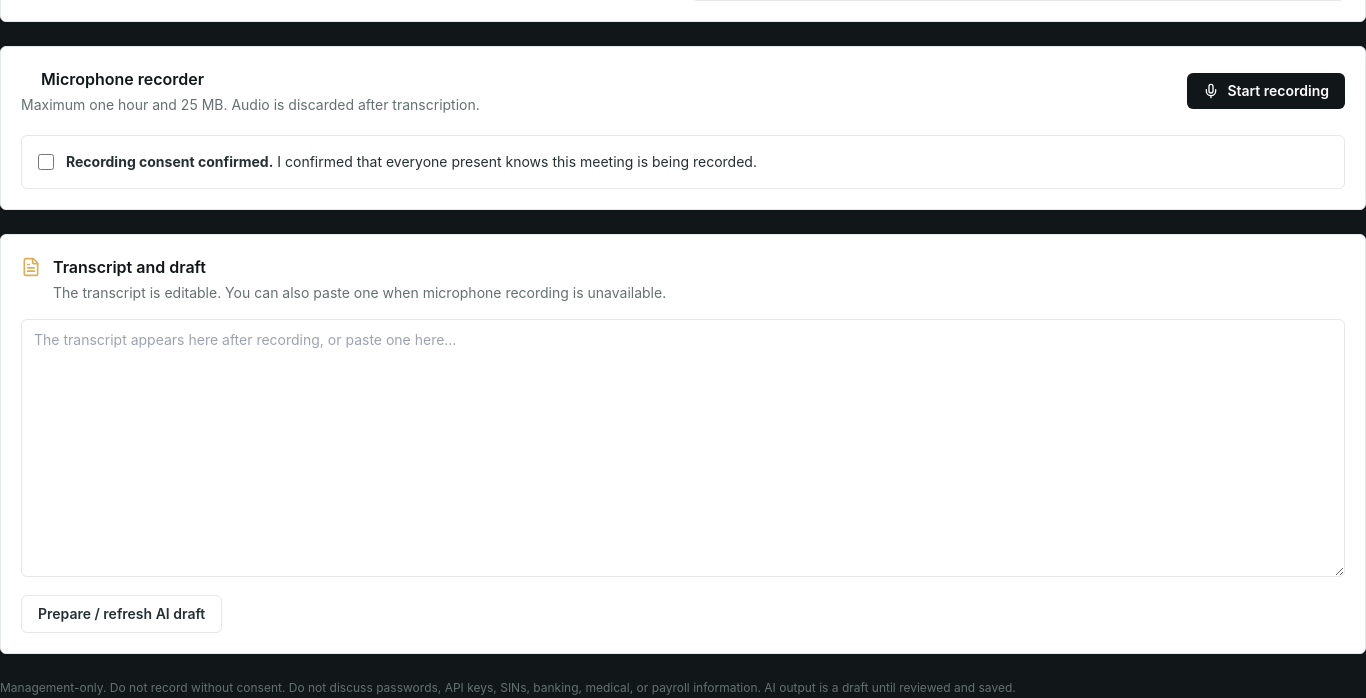
Test: MeetingMinutesPage › requires consent and management review before saving approved minutes
The width and height of the screenshot is (1366, 698).
(page scrolled)
Expected: the button "Prepare / refresh AI draft" is disabled, x1=21 y1=595 x2=222 y2=633
Type "Jeremie confirmed Monday mobilization after traffic control approval." into the text box with placeholder "The transcript appears here after recording, or paste one here…" at [683, 448], box x1=21 y1=319 x2=1345 y2=577
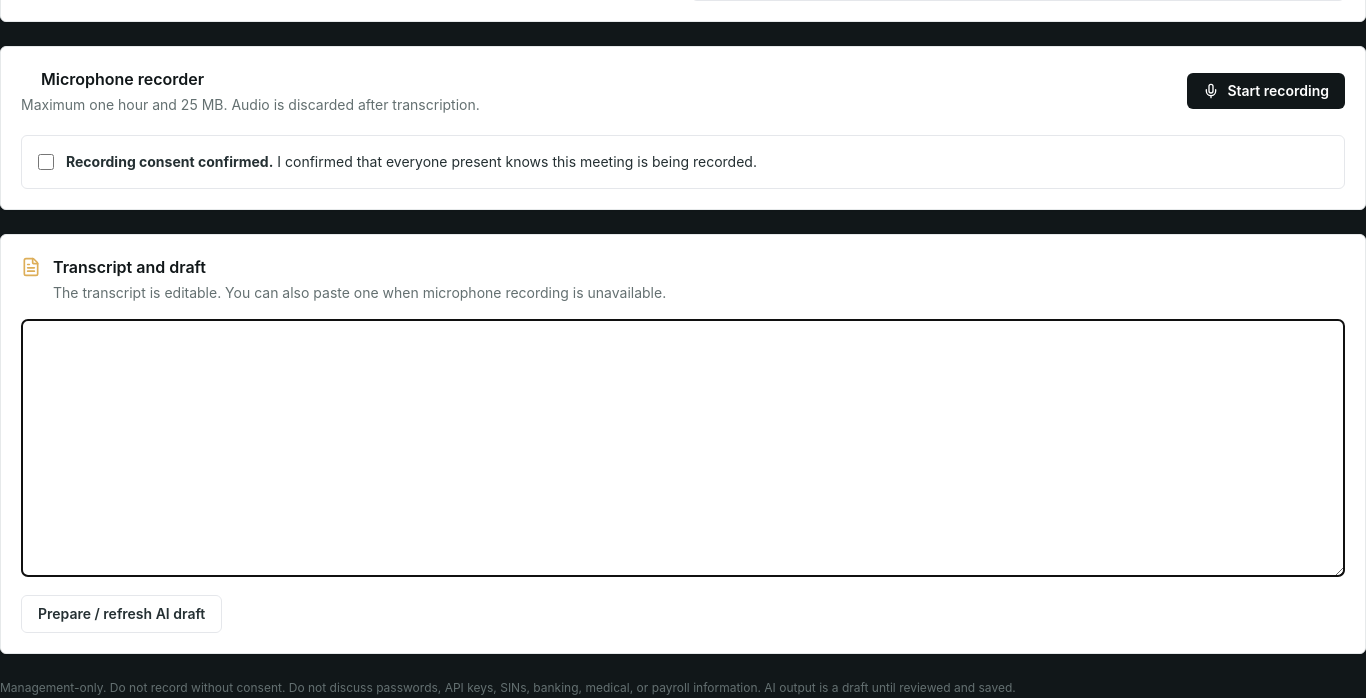
Click the checkbox labelled "Recording consent confirmed" at [46, 162], box x1=38 y1=154 x2=54 y2=170
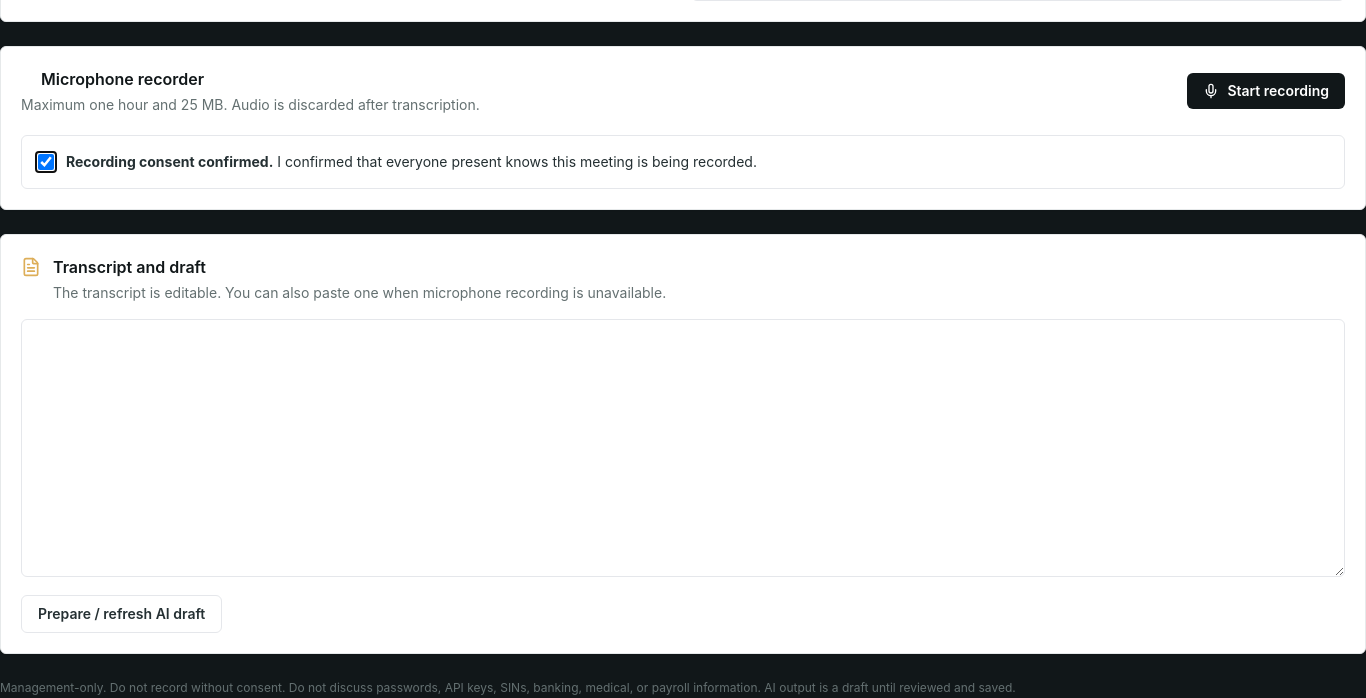
Click the button "Prepare / refresh AI draft" at [122, 614], box x1=21 y1=595 x2=222 y2=633
(page scrolled)
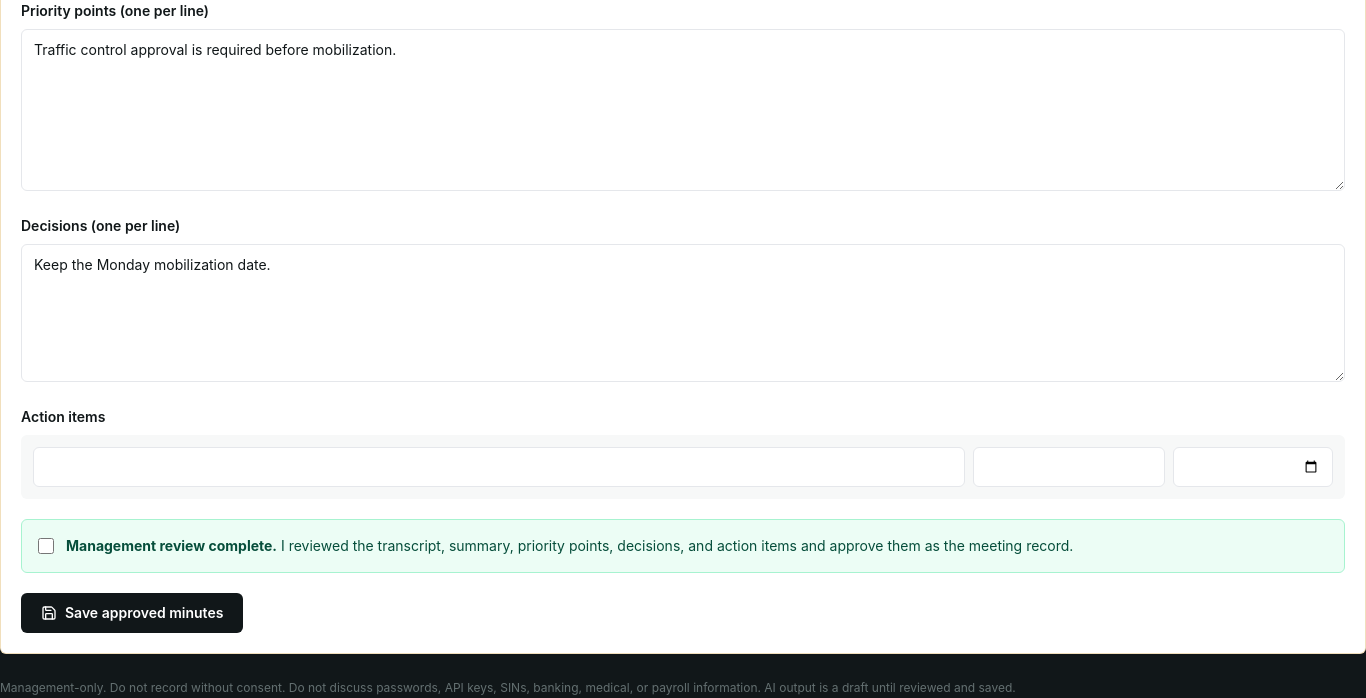
Expected: the button "Save approved minutes" is disabled, x1=21 y1=593 x2=243 y2=633
Click the checkbox labelled "Management review complete" at [46, 546], box x1=38 y1=538 x2=54 y2=554
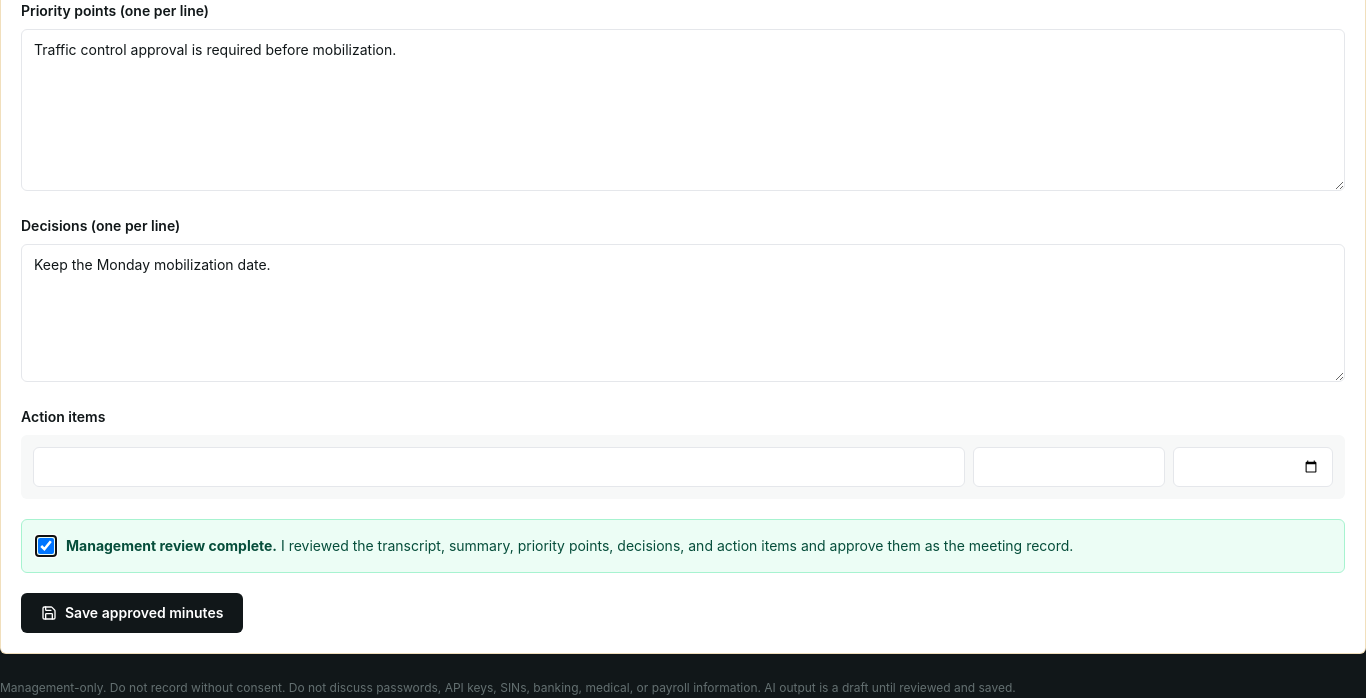
Click the button "Save approved minutes" at [132, 613], box x1=21 y1=593 x2=243 y2=633
(page scrolled)
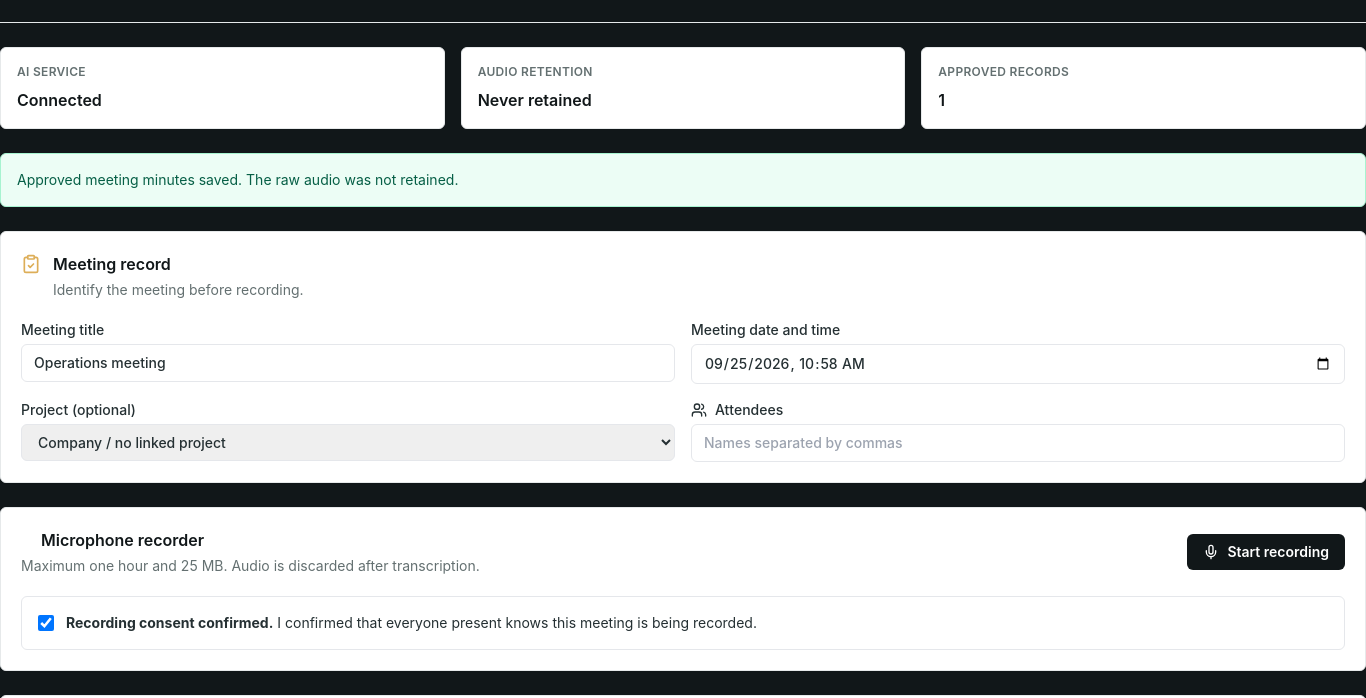
Expected: the text "Approved meeting minutes saved. The raw audio was not retained." is shown, x1=0 y1=153 x2=1365 y2=207
